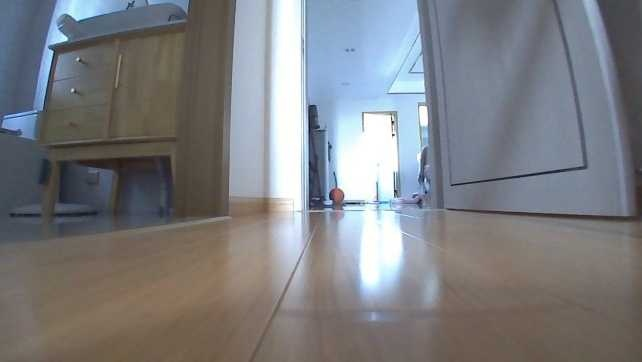door_anno: (416, 2, 636, 219)
toilet: (0, 106, 44, 212)
washstand: (37, 19, 186, 212)
